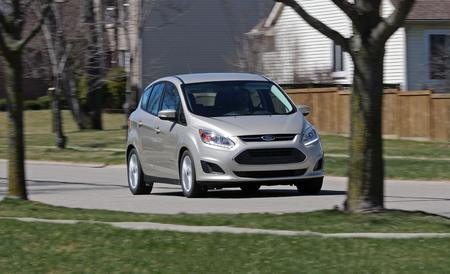car: (125, 73, 322, 197)
